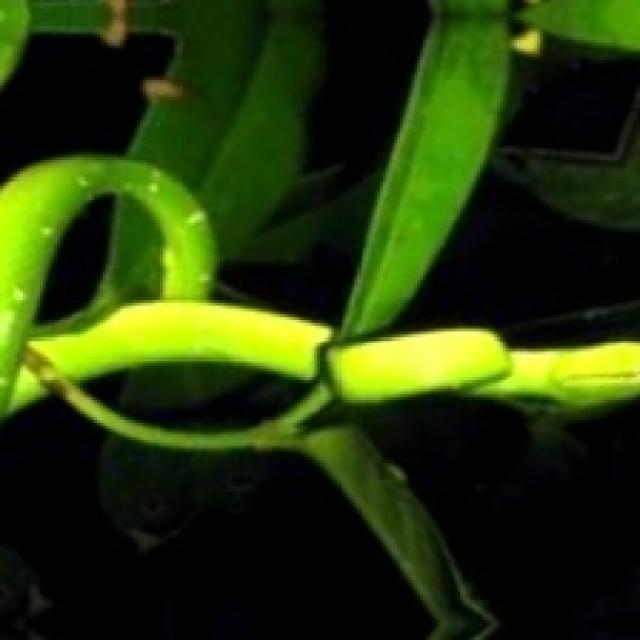north ph temple pitviper: (0, 154, 637, 634), (31, 191, 160, 331), (77, 360, 311, 431)
